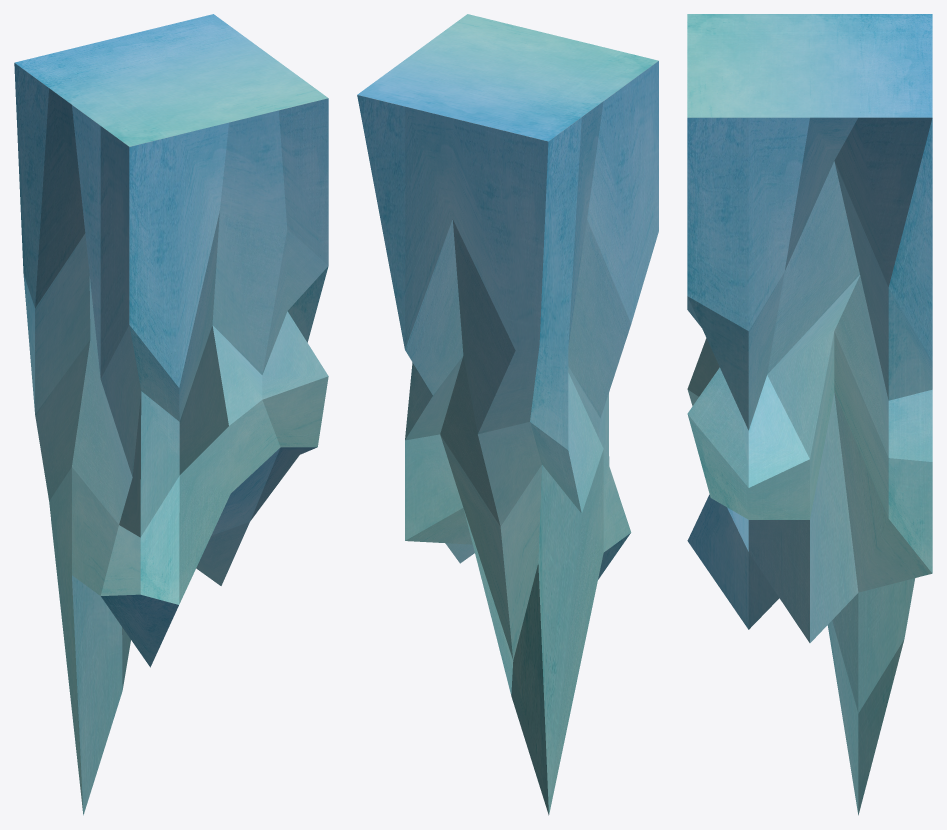
Rendered from ice01_Flat.fbx.
The picture shows the model from 3 angles, left to right: view 1: azimuth 30°, elevation 25°; view 2: azimuth 150°, elevation 25°; view 3: azimuth 270°, elevation 25°; orthographic projection. The views are drawn at different scales.
Visible parts, largest first — view 1: Cube_16; view 2: Cube_16; view 3: Cube_16.
Part boxes in pixels (left/top/right/bottom): Cube_16: left=14, top=14, right=328, bottom=815; Cube_16: left=357, top=14, right=658, bottom=815; Cube_16: left=687, top=14, right=932, bottom=815.
Size of the model in its own units: 200 by 706 by 200.
1 material, 1 textured.
